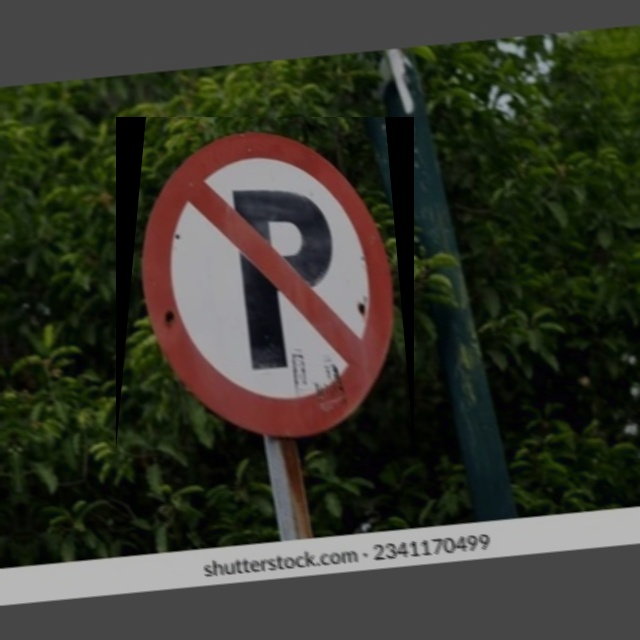No_Parking: (116, 117, 414, 450)
